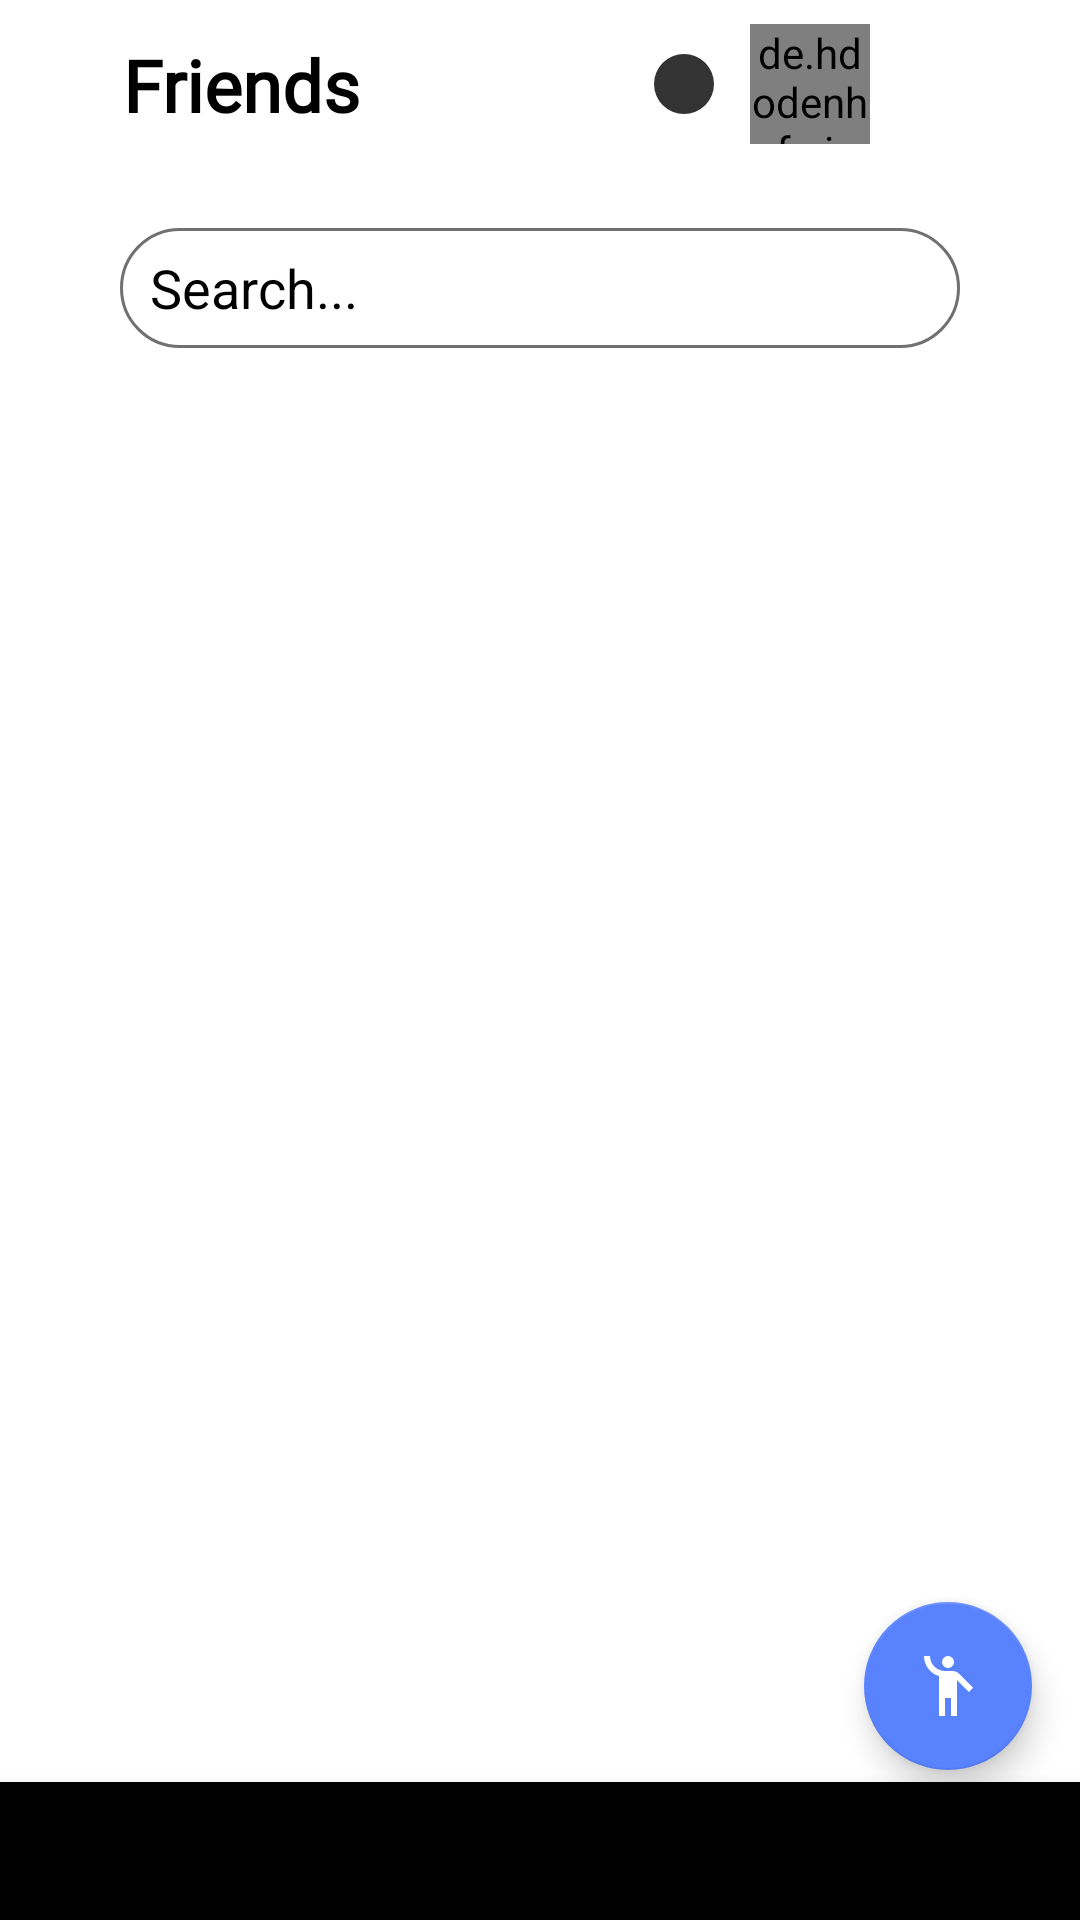

Screen size 1080w x 1920h. Icon name, then its center in pixels as point (x, y):
person waving: point (948, 1686)
